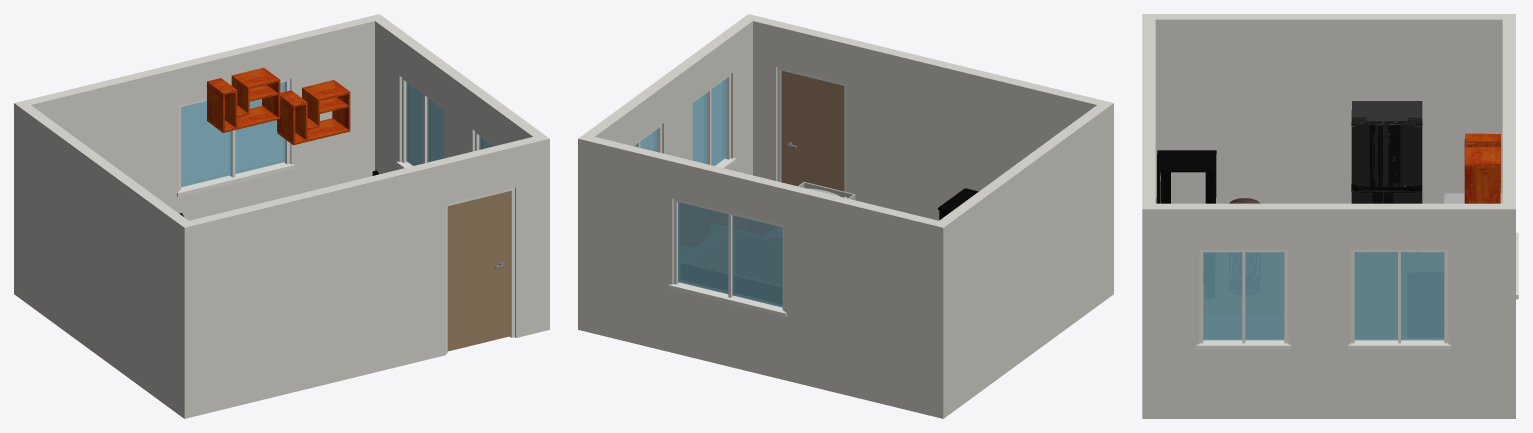
File: holodeck.glb
3 renders of one model, left to right at view 1: azimuth 30°, elevation 25°; view 2: azimuth 150°, elevation 25°; view 3: azimuth 270°, elevation 25°, orthographic. The views are drawn at different scales.
Visible parts, largest first — view 1: wall|scenesmith_107__R00|0, wall|scenesmith_107__R00|2, wall|scenesmith_107__R00|1, wall|scenesmith_107__R00|3, wall|scenesmith_107__R00|0 Door 0 | wood leaf, scenesmith_107__R00_10, wall|scenesmith_107__R00|1 Window 0 | glazing, wall|scenesmith_107__R00|3 Window 0 | glazing, wall|scenesmith_107__R00|1 Window 0 | jamb, wall|scenesmith_107__R00|0 Door 0 | jamb, wall|scenesmith_107__R00|3 Window 0 | jamb; view 2: wall|scenesmith_107__R00|1, wall|scenesmith_107__R00|2, wall|scenesmith_107__R00|0, wall|scenesmith_107__R00|3, wall|scenesmith_107__R00|1 Window 0 | glazing, wall|scenesmith_107__R00|0 Door 0 | wood leaf, wall|scenesmith_107__R00|3 Window 0 | glazing, wall|scenesmith_107__R00|1 Window 0 | jamb, wall|scenesmith_107__R00|3 Window 0 | jamb, wall|scenesmith_107__R00|0 Door 0 | jamb; view 3: wall|scenesmith_107__R00|3, wall|scenesmith_107__R00|2, wall|scenesmith_107__R00|3 Window 0 | glazing, scenesmith_107__R00_5, wall|scenesmith_107__R00|0, wall|scenesmith_107__R00|1, wall|scenesmith_107__R00|3 Window 0 | jamb, scenesmith_107__R00_10, scenesmith_107__R00_0.
Part boxes in pixels (<box>): wall|scenesmith_107__R00|0: <box>179,137,549,418</box>; wall|scenesmith_107__R00|2: <box>14,100,188,418</box>; wall|scenesmith_107__R00|1: <box>14,16,374,298</box>; wall|scenesmith_107__R00|3: <box>369,14,549,174</box>; wall|scenesmith_107__R00|0 Door 0 | wood leaf: <box>447,191,510,351</box>; scenesmith_107__R00_10: <box>207,67,350,145</box>; wall|scenesmith_107__R00|1 Window 0 | glazing: <box>181,82,285,187</box>; wall|scenesmith_107__R00|3 Window 0 | glazing: <box>406,82,493,165</box>; wall|scenesmith_107__R00|1 Window 0 | jamb: <box>177,78,294,196</box>; wall|scenesmith_107__R00|0 Door 0 | jamb: <box>446,187,514,353</box>; wall|scenesmith_107__R00|3 Window 0 | jamb: <box>396,78,494,168</box>; wall|scenesmith_107__R00|1: <box>578,137,949,418</box>; wall|scenesmith_107__R00|2: <box>933,103,1113,418</box>; wall|scenesmith_107__R00|0: <box>753,16,1113,220</box>; wall|scenesmith_107__R00|3: <box>578,14,758,332</box>; wall|scenesmith_107__R00|1 Window 0 | glazing: <box>678,202,782,307</box>; wall|scenesmith_107__R00|0 Door 0 | wood leaf: <box>781,70,844,191</box>; wall|scenesmith_107__R00|3 Window 0 | glazing: <box>634,78,726,165</box>; wall|scenesmith_107__R00|1 Window 0 | jamb: <box>669,199,786,317</box>; wall|scenesmith_107__R00|3 Window 0 | jamb: <box>633,74,736,168</box>; wall|scenesmith_107__R00|0 Door 0 | jamb: <box>777,67,846,191</box>; wall|scenesmith_107__R00|3: <box>1142,203,1515,418</box>; wall|scenesmith_107__R00|2: <box>1155,14,1515,203</box>; wall|scenesmith_107__R00|3 Window 0 | glazing: <box>1203,252,1444,340</box>; scenesmith_107__R00_5: <box>1351,101,1422,203</box>; wall|scenesmith_107__R00|0: <box>1142,14,1155,418</box>; wall|scenesmith_107__R00|1: <box>1502,14,1515,418</box>; wall|scenesmith_107__R00|3 Window 0 | jamb: <box>1196,249,1450,349</box>; scenesmith_107__R00_10: <box>1464,133,1500,203</box>; scenesmith_107__R00_0: <box>1156,150,1216,203</box>.
Bounding box in the file's own units: 5.23 × 2.61 × 4.23.
Materials: 14 (6 with a texture image).
